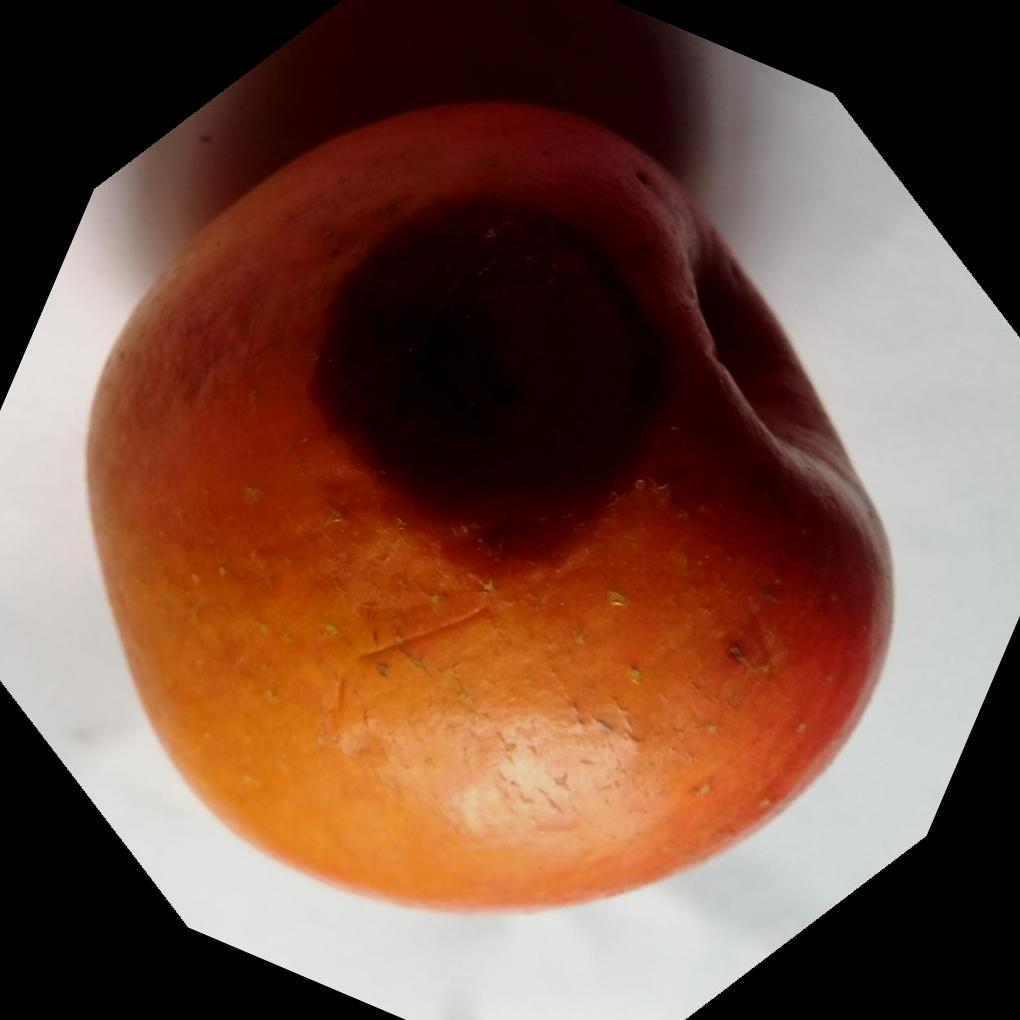FreshOrange: (77, 95, 893, 914)
